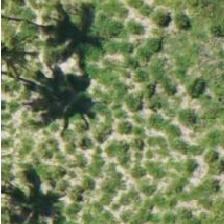coconut_tree: (0, 0, 47, 79)
